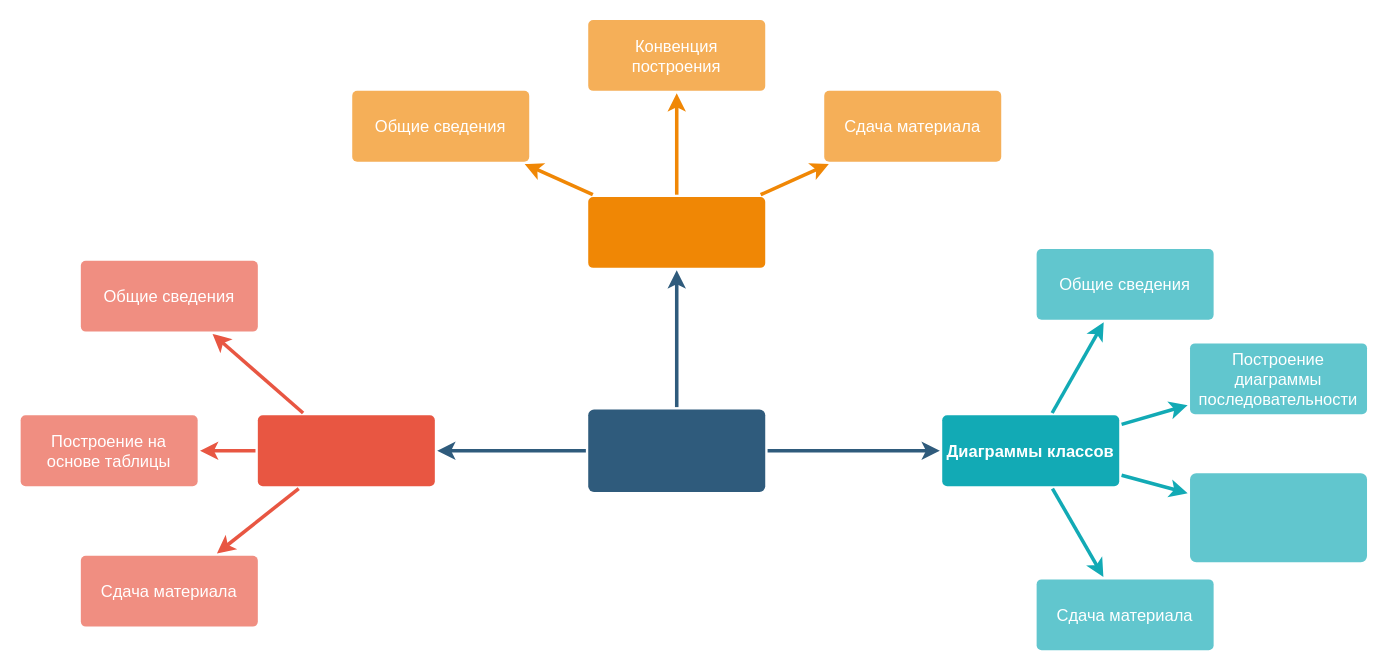
Image size: 1386x670. Some labels were removed from this diagram. Each missing label, with the centre of its shape:
Диаграмма последовательности: point (345, 450)
Диаграммы вариантов использования: point (676, 231)
Построение диаграммы вариантов использования: point (1277, 517)
Программная инженерия практика: point (676, 450)
